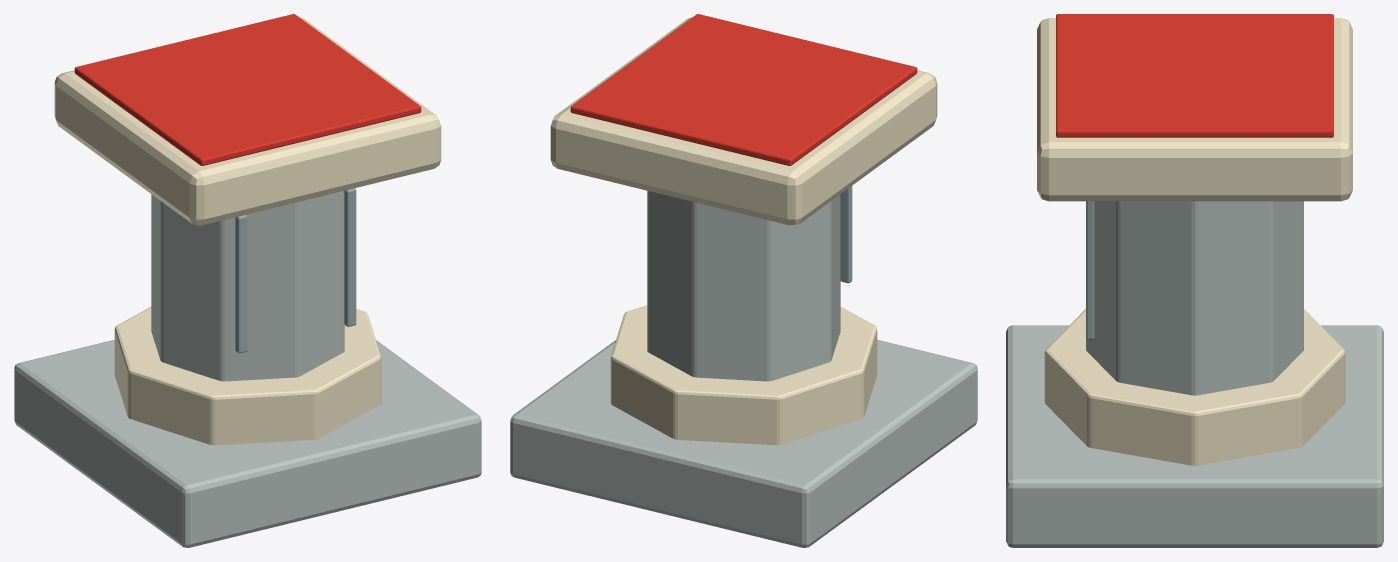
The model's file is S095_treasure_pedestal.glb.
3 views of the same model, side by side, from view 1: azimuth 30°, elevation 25°; view 2: azimuth 150°, elevation 25°; view 3: azimuth 270°, elevation 25° (orthographic). The views are drawn at different scales.
Parts seen in each view (by area): view 1: display_foot, pedestal_shaft, velvet_top, display_cap, pedestal_lower, carved_front_flute.001, carved_front_flute; view 2: display_foot, pedestal_shaft, velvet_top, display_cap, pedestal_lower, carved_front_flute; view 3: display_foot, pedestal_shaft, velvet_top, display_cap, pedestal_lower, carved_front_flute.001.
Boxes of the visible parts, bbox=[...] form: display_foot: bbox=[14, 340, 481, 547]; pedestal_shaft: bbox=[151, 191, 344, 381]; velvet_top: bbox=[74, 14, 421, 165]; display_cap: bbox=[54, 17, 441, 225]; pedestal_lower: bbox=[114, 307, 381, 445]; carved_front_flute.001: bbox=[344, 188, 356, 326]; carved_front_flute: bbox=[235, 215, 247, 353]; display_foot: bbox=[510, 340, 977, 547]; pedestal_shaft: bbox=[647, 191, 840, 381]; velvet_top: bbox=[570, 14, 917, 165]; display_cap: bbox=[550, 17, 937, 225]; pedestal_lower: bbox=[610, 305, 877, 445]; carved_front_flute: bbox=[840, 186, 852, 283]; display_foot: bbox=[1006, 325, 1383, 547]; pedestal_shaft: bbox=[1086, 201, 1303, 395]; velvet_top: bbox=[1056, 14, 1333, 137]; display_cap: bbox=[1037, 18, 1352, 201]; pedestal_lower: bbox=[1044, 309, 1345, 465]; carved_front_flute.001: bbox=[1086, 201, 1094, 339].
Bounding box in the file's own units: 1.1 × 1.28 × 1.1.
